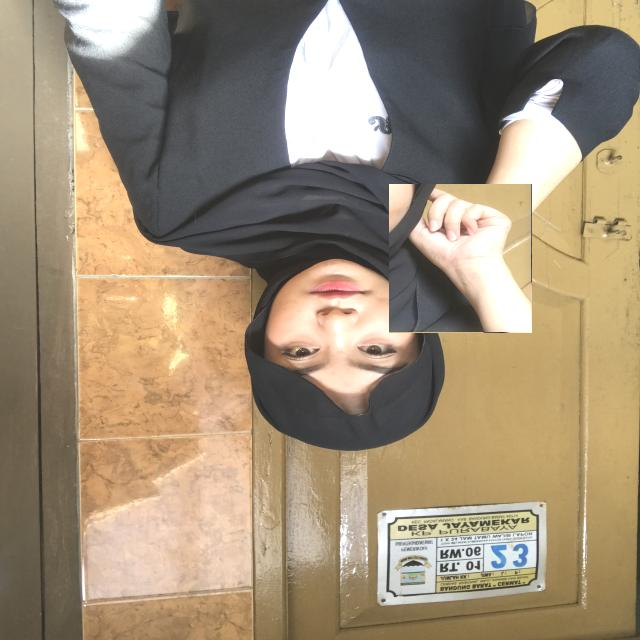ibu: (389, 184, 532, 333)
